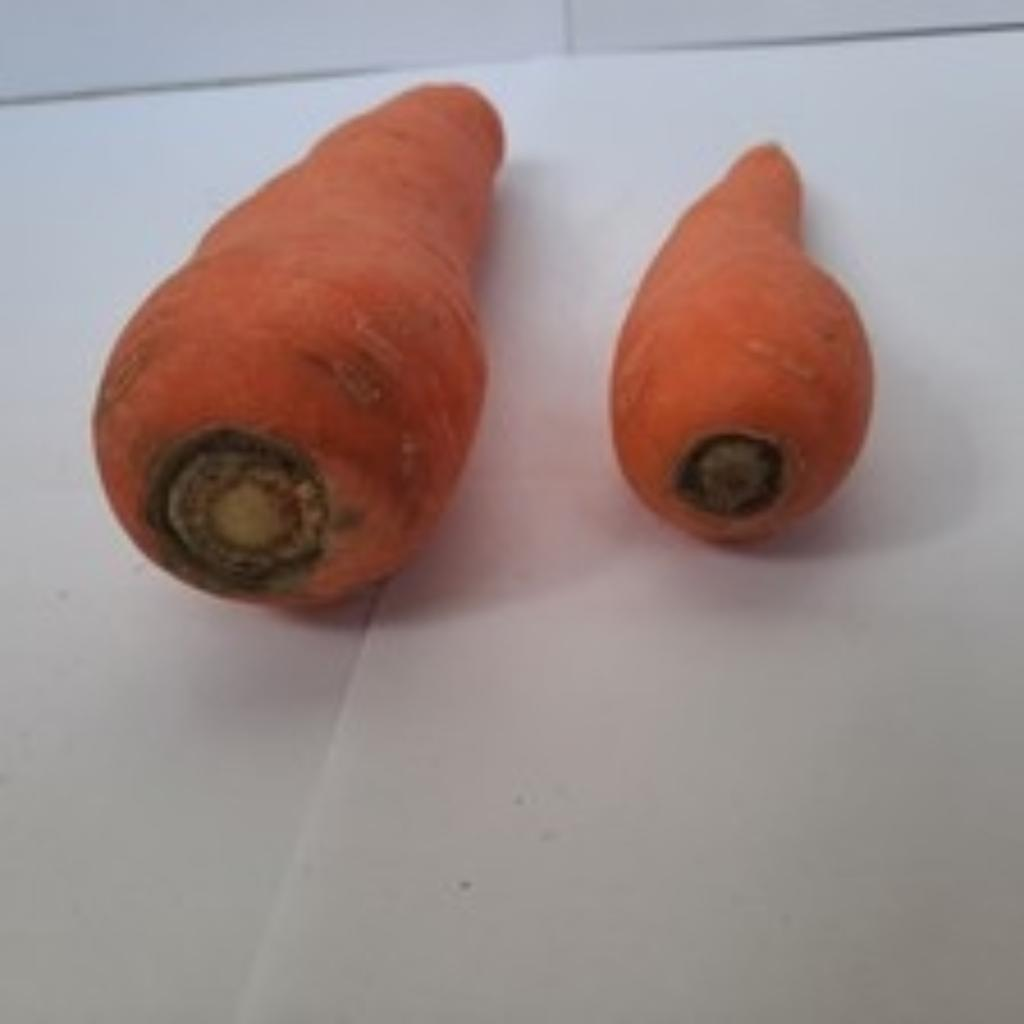carrot: (91, 82, 494, 594), (608, 142, 864, 535)
